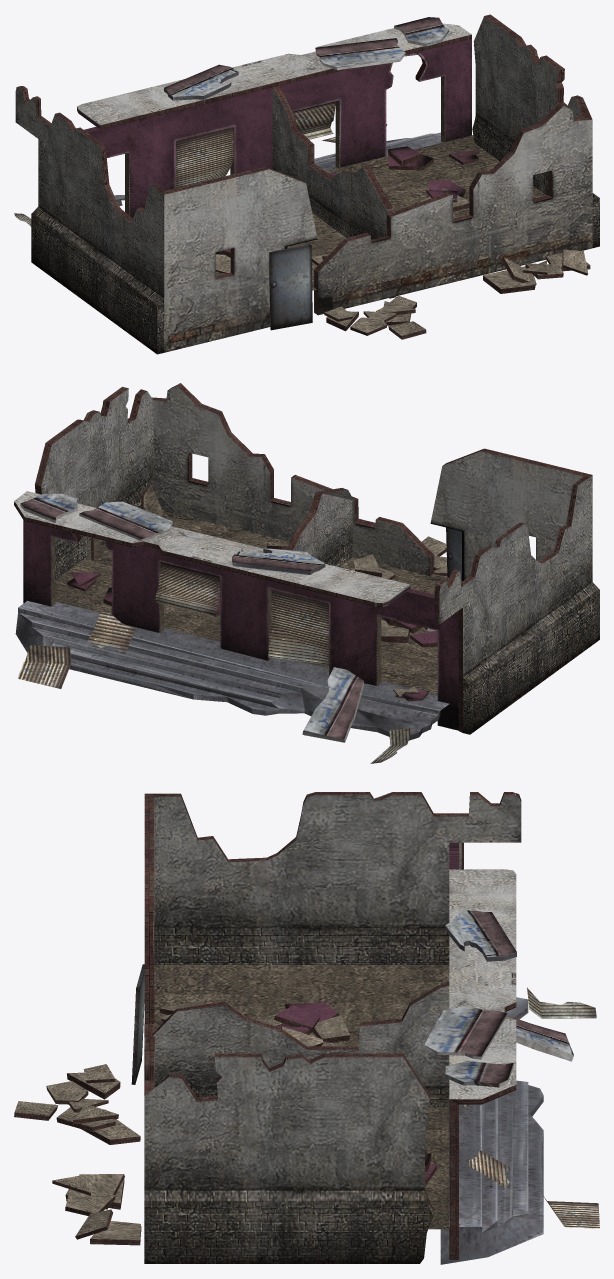
The model's file is buildings_21_ruin.FBX.
The picture shows the model from 3 angles, top to bottom: view 1: azimuth 30°, elevation 25°; view 2: azimuth 150°, elevation 25°; view 3: azimuth 270°, elevation 25°; orthographic projection. The views are drawn at different scales.
Visible parts, largest first — view 1: Plane001; view 2: Plane001; view 3: Plane001.
Boxes of the visible parts, box(x1,y1,x2,y2) form: Plane001: box(14, 14, 599, 354); Plane001: box(14, 383, 599, 763); Plane001: box(14, 792, 599, 1264).
Bounding box in the file's own units: 1136 × 1026 × 406.
1 material, 1 textured.
